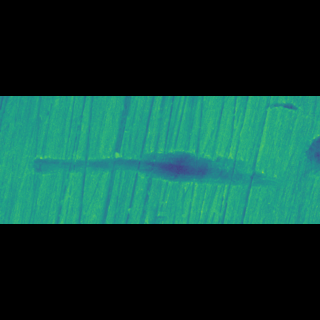Loch: (26, 155, 280, 173)
